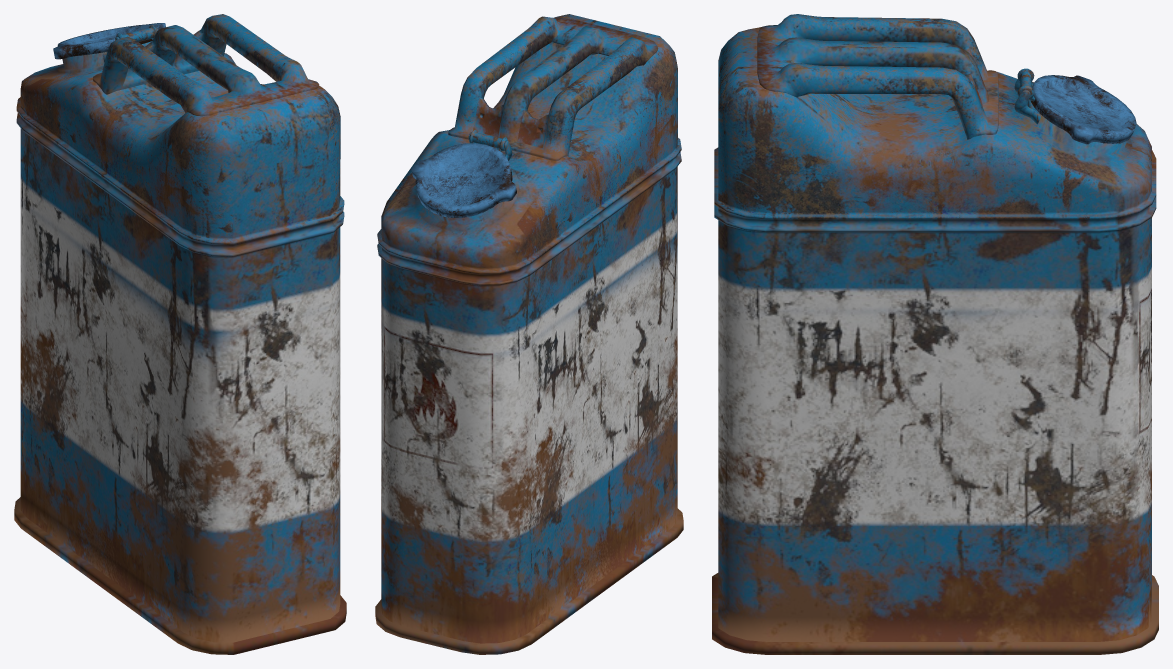
Rendered from rusty_jerry_can.glb.
The picture shows the model from 3 angles, left to right: view 1: azimuth 30°, elevation 25°; view 2: azimuth 150°, elevation 25°; view 3: azimuth 270°, elevation 25°; orthographic projection. The views are drawn at different scales.
Visible parts, largest first — view 1: gascan_body_low, handle_low, gascan_cap_low; view 2: gascan_body_low, handle_low, gascan_cap_low; view 3: gascan_body_low, handle_low, gascan_cap_low.
Boxes of the visible parts, x1=… form: gascan_body_low: x1=14, y1=41, x2=346, y2=654; handle_low: x1=93, y1=14, x2=319, y2=116; gascan_cap_low: x1=53, y1=23, x2=165, y2=59; gascan_body_low: x1=375, y1=14, x2=683, y2=654; handle_low: x1=448, y1=16, x2=658, y2=161; gascan_cap_low: x1=411, y1=143, x2=516, y2=217; gascan_body_low: x1=712, y1=27, x2=1158, y2=654; handle_low: x1=757, y1=14, x2=998, y2=139; gascan_cap_low: x1=1030, y1=75, x2=1136, y2=144.
Bounding box in the file's own units: 90.74 × 288 × 204.
1 material, 1 textured.
